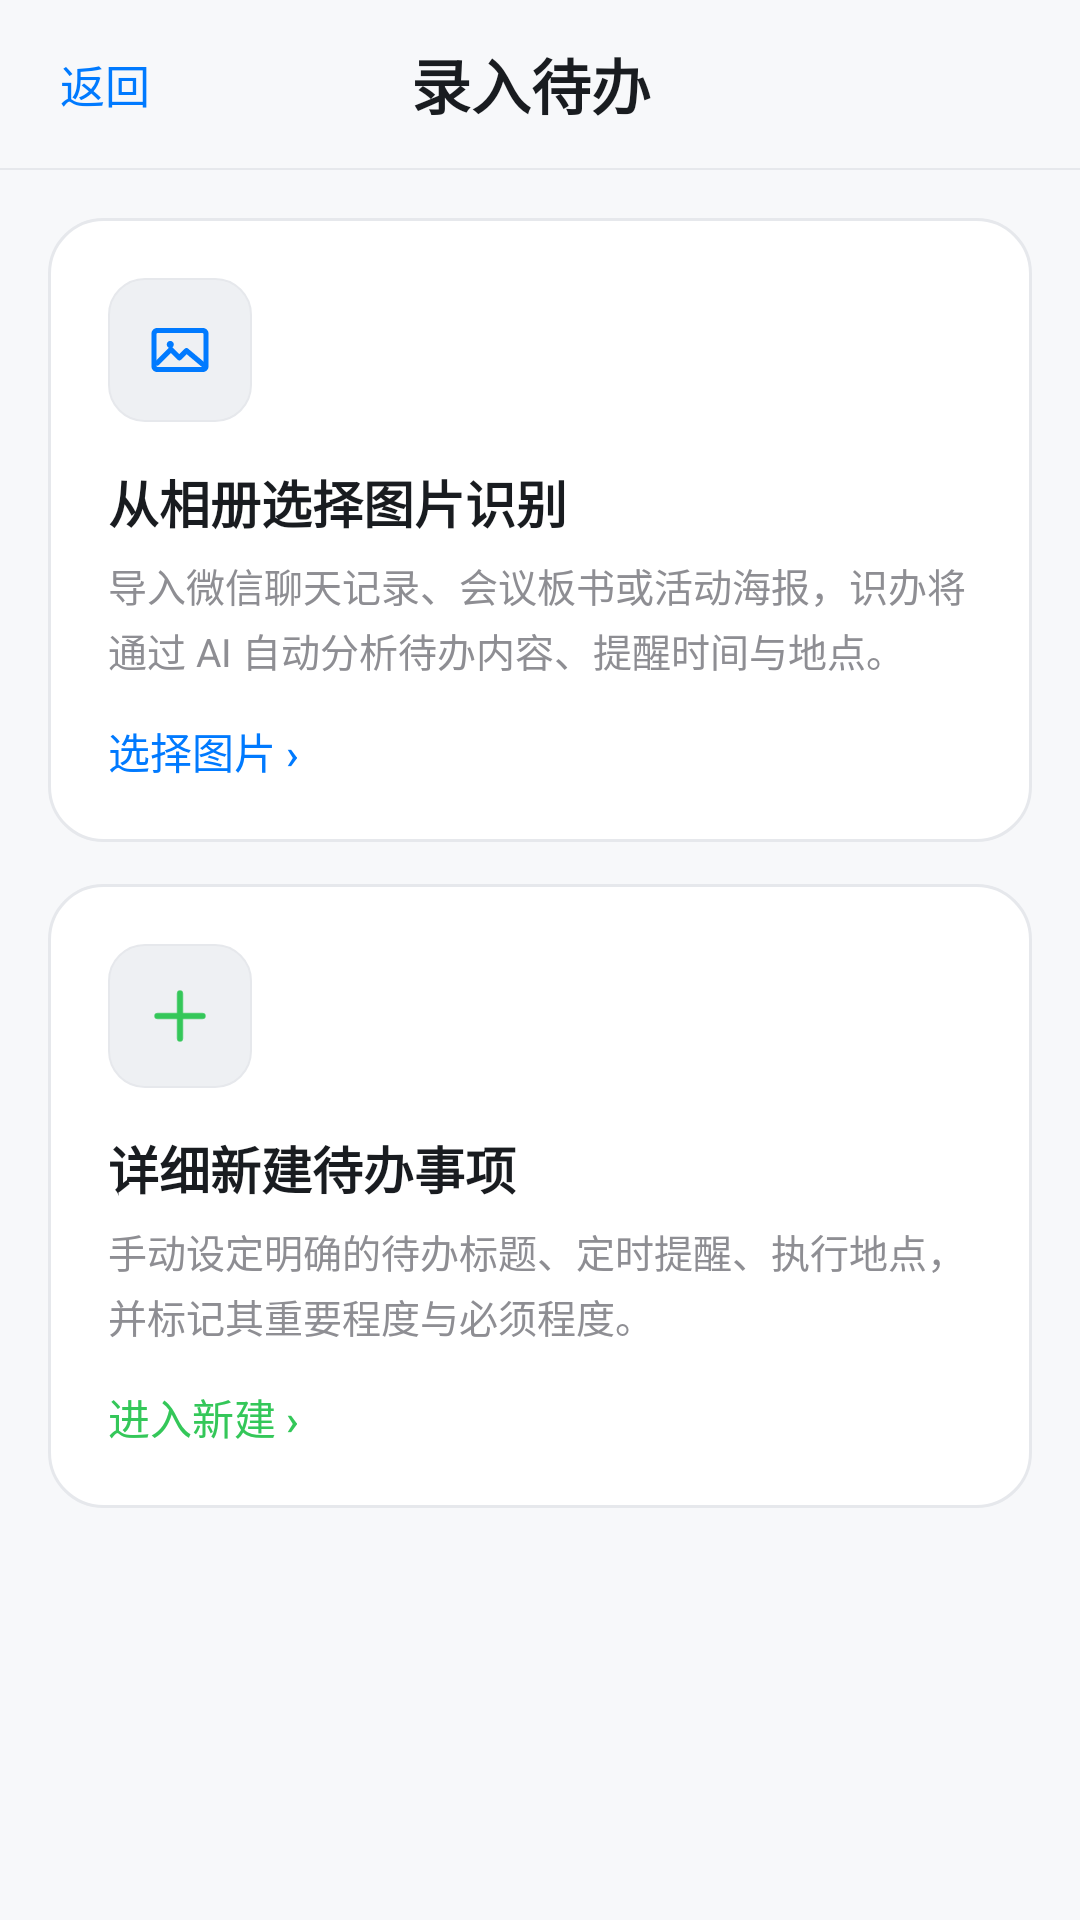

Locate icon controls on the screen. Image size 1080×1920, boxes as bbox(x1, y1, x2, y2).
相册导入: bbox(151, 328, 209, 372)
